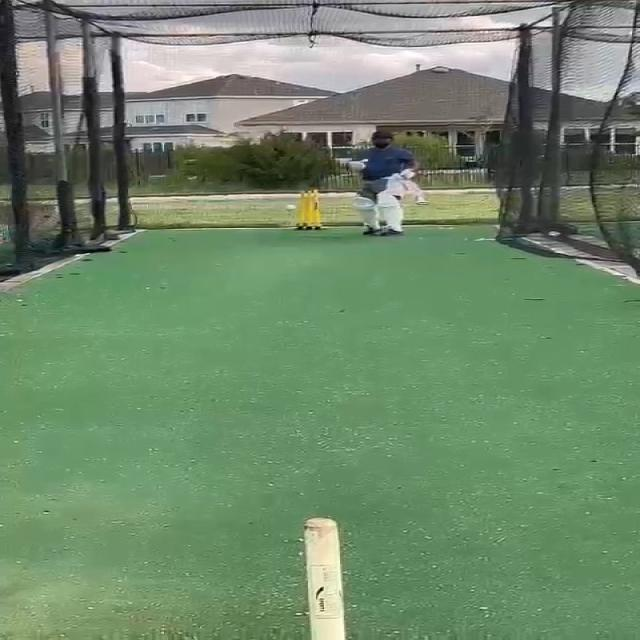batsman: (343, 130, 432, 238)
